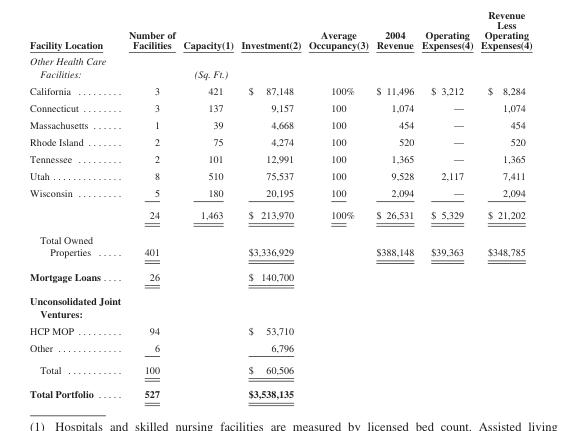table: (29, 28, 531, 399)
table column: (29, 28, 116, 399), (236, 28, 304, 399), (304, 28, 371, 399), (116, 28, 178, 399), (417, 28, 476, 399), (178, 28, 236, 399), (476, 28, 531, 399), (371, 28, 417, 399)
table column header: (29, 28, 531, 82)
table projected row header: (29, 288, 531, 321)
table row: (29, 28, 531, 82), (29, 226, 531, 263), (29, 288, 531, 321), (29, 263, 531, 288), (29, 203, 531, 226), (29, 358, 531, 381), (29, 338, 531, 358), (29, 184, 531, 203), (29, 381, 531, 399), (29, 82, 531, 99), (29, 99, 531, 116), (29, 116, 531, 133), (29, 133, 531, 150), (29, 150, 531, 167), (29, 167, 531, 184), (29, 321, 531, 338)
